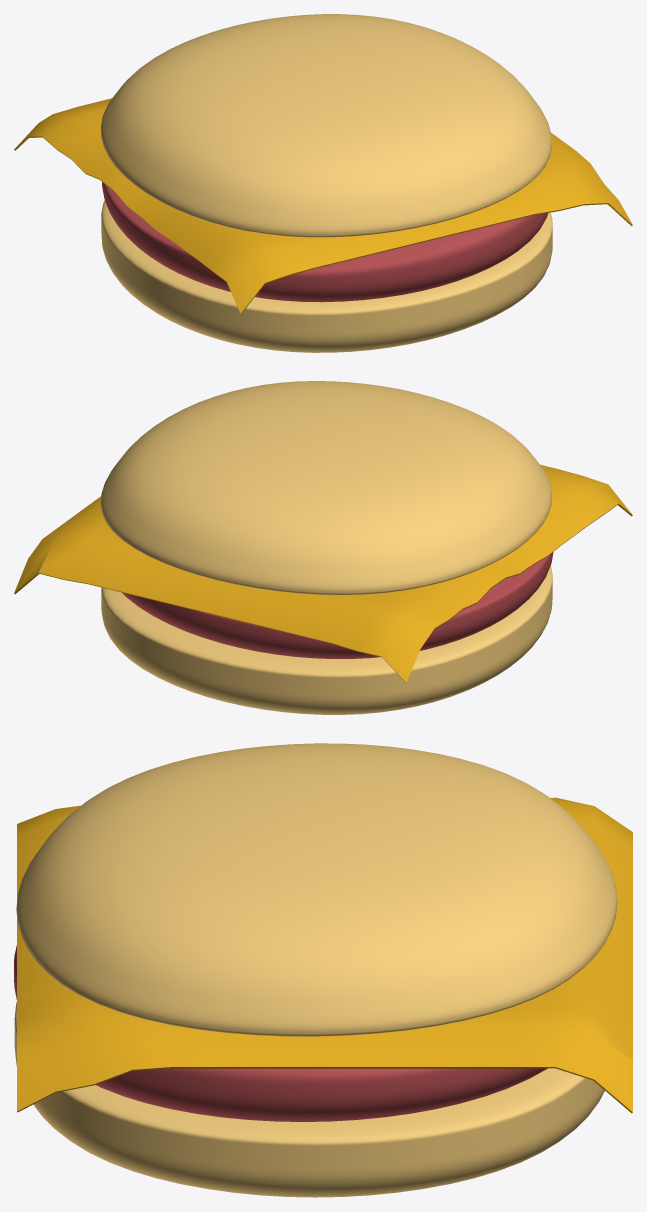
The model's file is hamburger.glb.
3 views of the same model, one above another, from view 1: azimuth 30°, elevation 25°; view 2: azimuth 150°, elevation 25°; view 3: azimuth 270°, elevation 25° (orthographic). The views are drawn at different scales.
Visible parts, largest first — view 1: 立方体.002, 立方体, 平面, 立方体.001; view 2: 立方体.002, 平面, 立方体, 立方体.001; view 3: 立方体.002, 平面, 立方体, 立方体.001.
Part boxes in pixels (left/top/right/bottom): 立方体.002: left=100, top=14, right=551, bottom=237; 立方体: left=101, top=200, right=552, bottom=352; 平面: left=14, top=98, right=632, bottom=313; 立方体.001: left=102, top=182, right=548, bottom=302; 立方体.002: left=100, top=381, right=551, bottom=594; 平面: left=14, top=465, right=632, bottom=682; 立方体: left=101, top=565, right=552, bottom=714; 立方体.001: left=122, top=552, right=553, bottom=658; 立方体.002: left=16, top=743, right=617, bottom=1036; 平面: left=17, top=797, right=632, bottom=1113; 立方体: left=14, top=1002, right=604, bottom=1197; 立方体.001: left=14, top=945, right=547, bottom=1121.
Size of the model in its own units: 9.3 by 4.93 by 9.34.
